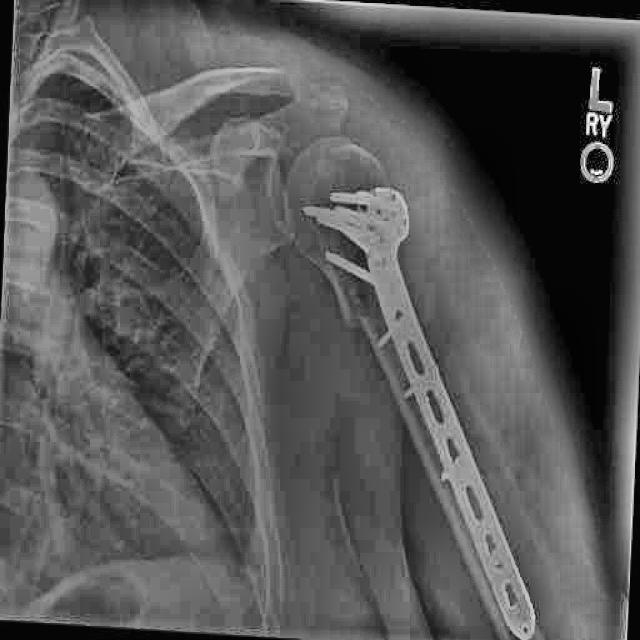shoulder fracture: (318, 275, 384, 358)
